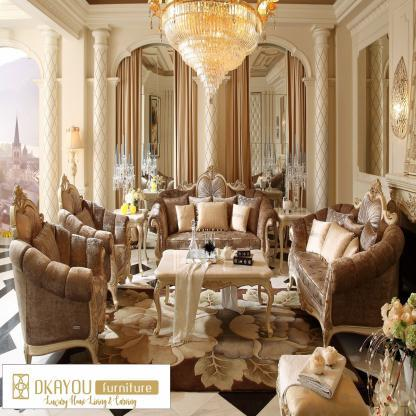meja: (151, 244, 278, 339)
sova: (280, 196, 412, 350), (3, 188, 106, 362)
